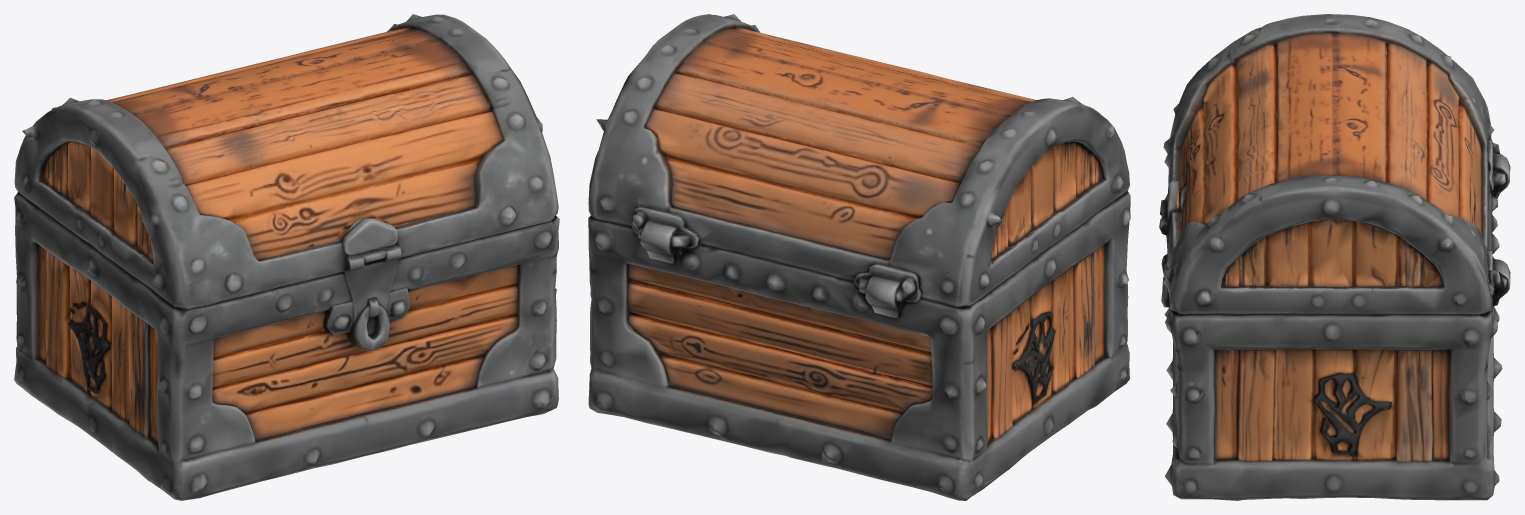
File: Meshy_AI_Treasure_Chest_0221184131_texture.glb
The picture shows the model from 3 angles, left to right: view 1: azimuth 30°, elevation 25°; view 2: azimuth 150°, elevation 25°; view 3: azimuth 270°, elevation 25°; orthographic projection. The views are drawn at different scales.
Parts seen in each view (by area): view 1: Mesh1.0; view 2: Mesh1.0; view 3: Mesh1.0.
Part boxes in pixels (bbox=[...]): Mesh1.0: bbox=[14, 14, 559, 500]; Mesh1.0: bbox=[588, 14, 1130, 500]; Mesh1.0: bbox=[1159, 14, 1510, 500].
Bounding box in the file's own units: 1.91 × 1.47 × 1.49.
Materials: 1 (1 with a texture image).
